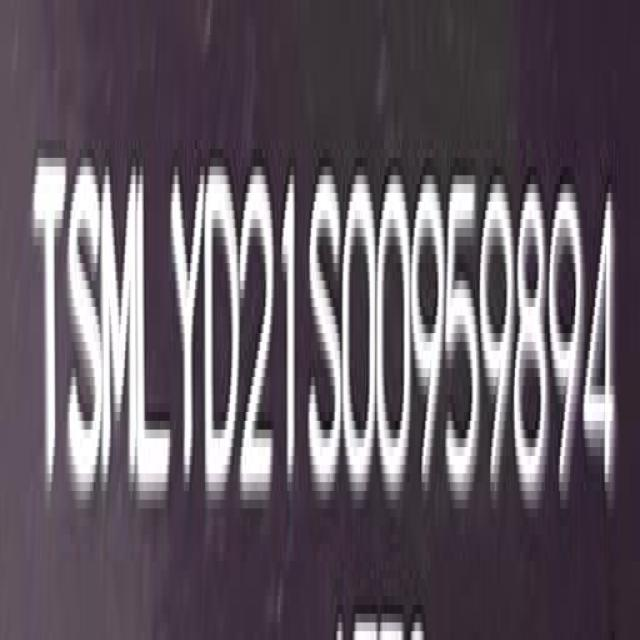0: (378, 169, 414, 497), (345, 172, 378, 496)
1: (281, 165, 301, 506)
2: (240, 168, 278, 513)
4: (585, 192, 620, 506)
5: (448, 172, 480, 503)
8: (515, 175, 548, 510)
9: (413, 175, 447, 503), (481, 178, 514, 504), (552, 187, 584, 505)
D: (205, 163, 240, 510)
L: (136, 152, 173, 510)
M: (102, 154, 143, 511)
S: (66, 152, 101, 510), (307, 168, 344, 499)
T: (34, 148, 66, 519)
Y: (171, 158, 203, 510)
